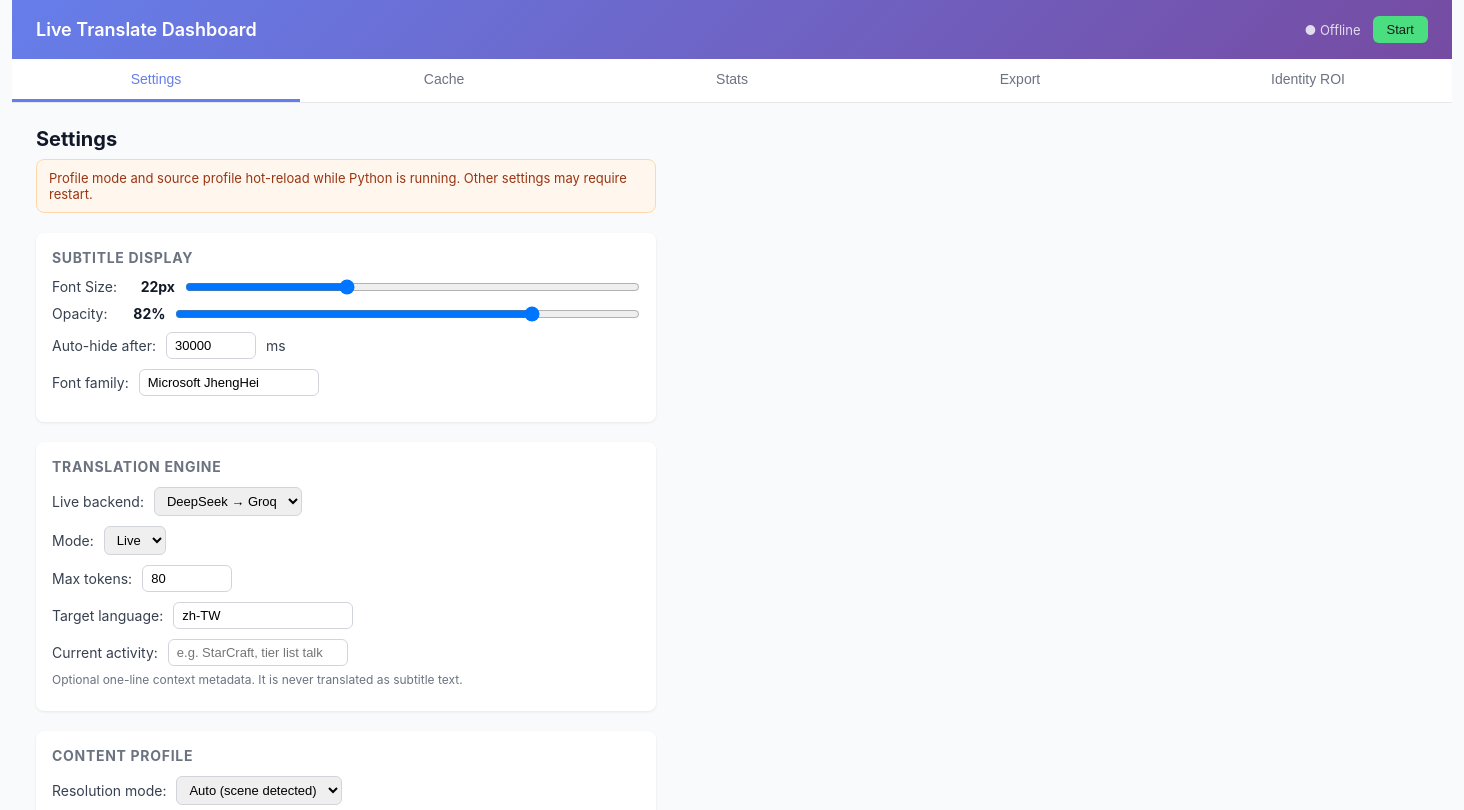
Test case: Dashboard › switches to Cache tab when clicked
This screenshot has width=1464, height=810.
Click the button "Cache".
click(444, 80)  # box x1=300 y1=59 x2=588 y2=102
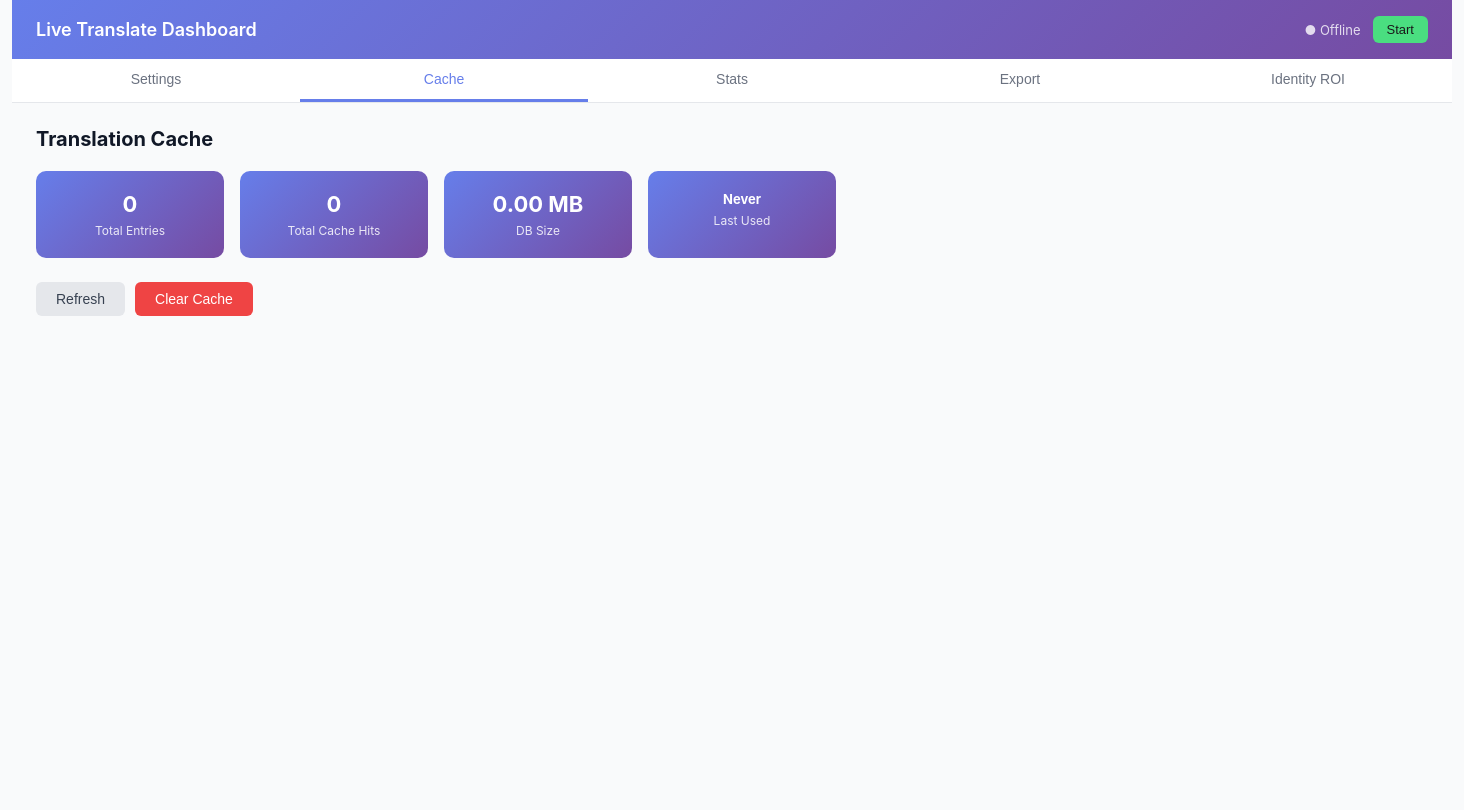
Expected: the element that starts with "Translation Cache" is shown, x1=36 y1=127 x2=836 y2=316
